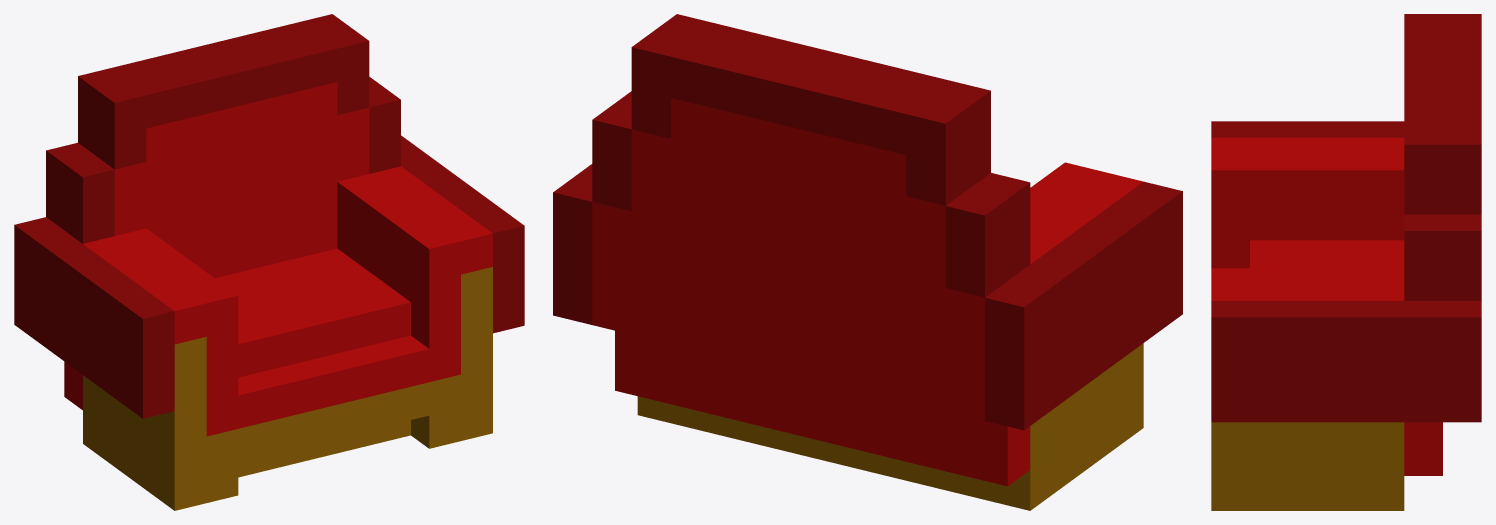
The model's file is Hotel furnitures-1.obj.
The picture shows the model from 3 angles, left to right: view 1: azimuth 30°, elevation 25°; view 2: azimuth 150°, elevation 25°; view 3: azimuth 270°, elevation 25°; orthographic projection. The views are drawn at different scales.
Parts seen in each view (by area): view 1: Hotel furnitures-1; view 2: Hotel furnitures-1; view 3: Hotel furnitures-1.
Boxes of the visible parts, x1,y1,x2,y2 form: Hotel furnitures-1: (14,14,524,510); Hotel furnitures-1: (553,14,1182,510); Hotel furnitures-1: (1211,14,1481,510).
Bounding box in the file's own units: 12 × 10 × 7.
